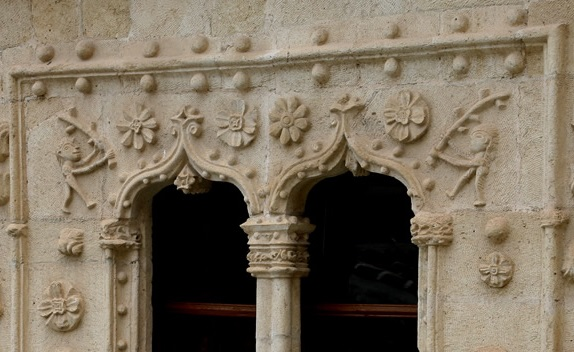arco-conopial: (272, 128, 421, 203), (118, 135, 257, 214)
